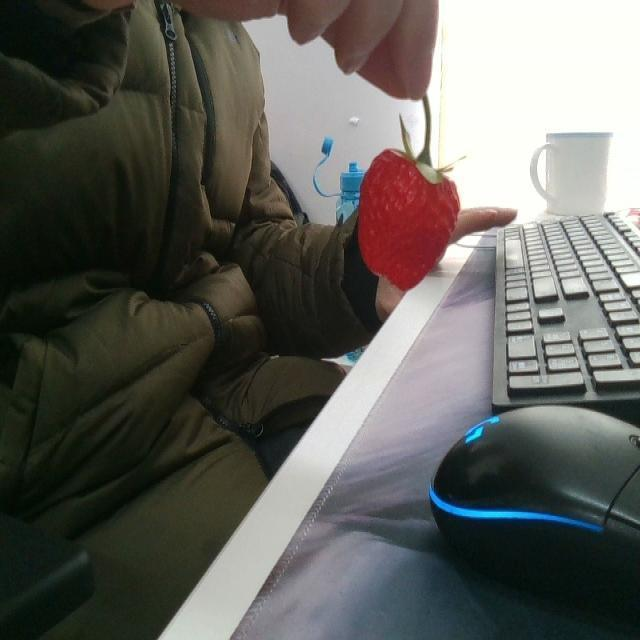ripe: (358, 144, 460, 291)
